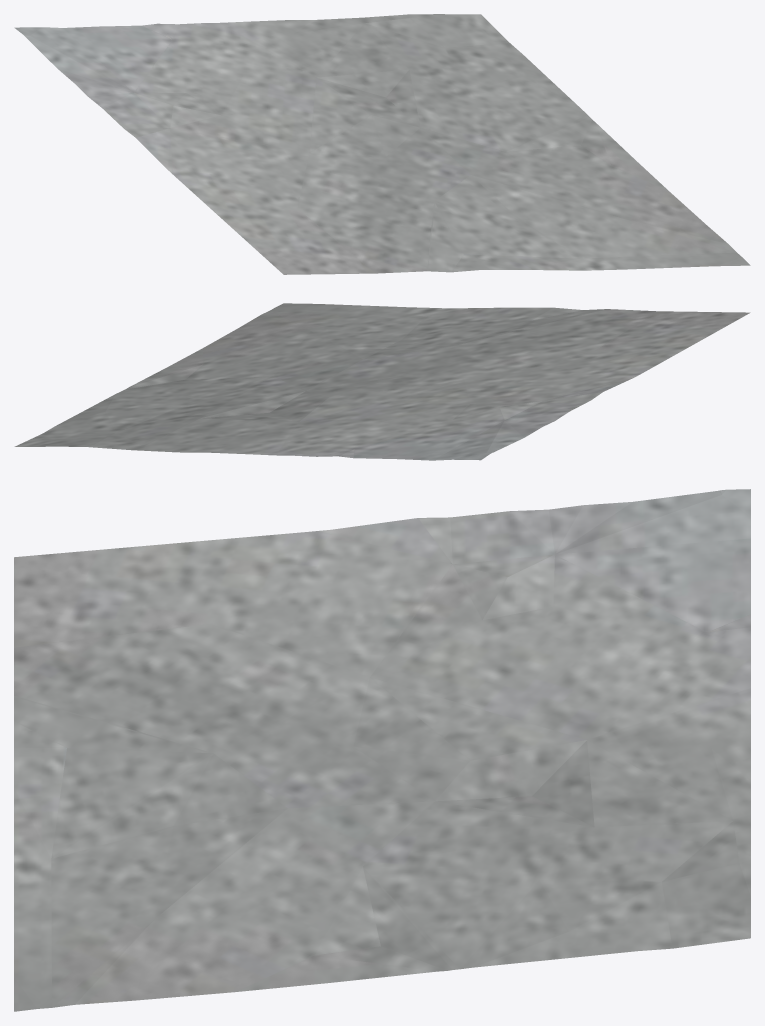
3 renders of one model, top to bottom at view 1: azimuth 30°, elevation 25°; view 2: azimuth 150°, elevation 25°; view 3: azimuth 270°, elevation 25°, orthographic. The views are drawn at different scales.
Bounding box in the file's own units: 1.67 × 0.5296 × 1.67.
Materials: 3 (3 with a texture image).
